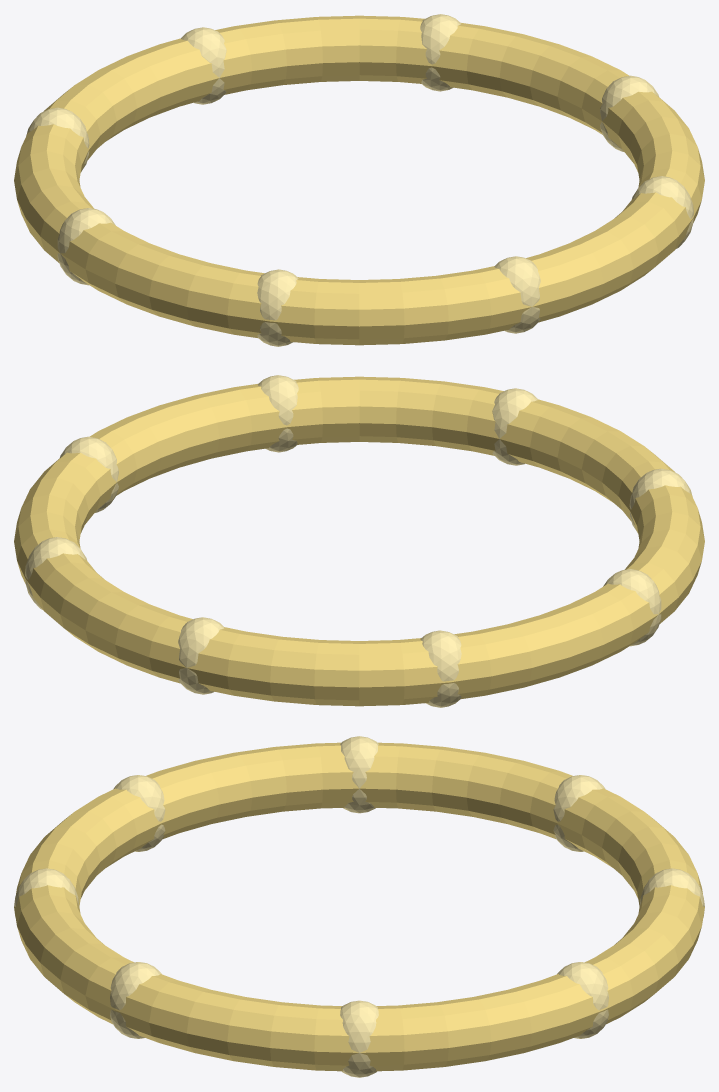
The model's file is star_halo.glb.
3 views of the same model, one above another, from view 1: azimuth 30°, elevation 25°; view 2: azimuth 150°, elevation 25°; view 3: azimuth 270°, elevation 25° (orthographic).
Visible parts, largest first — view 1: star_halo_0, star_halo_4, star_halo_3, star_halo_8, star_halo_7, star_halo_5, star_halo_1, star_halo_2, star_halo_6; view 2: star_halo_0, star_halo_6, star_halo_7, star_halo_2, star_halo_3, star_halo_5, star_halo_1, star_halo_8, star_halo_4; view 3: star_halo_0, star_halo_1, star_halo_5, star_halo_2, star_halo_8, star_halo_4, star_halo_6, star_halo_3, star_halo_7.
Boxes of the visible parts, x1,y1,x2,y2 form: star_halo_0: (14,15,704,345); star_halo_4: (257,269,298,346); star_halo_3: (494,256,540,333); star_halo_8: (420,14,461,91); star_halo_7: (181,27,226,104); star_halo_5: (57,208,115,285); star_halo_1: (600,75,658,151); star_halo_2: (632,176,693,248); star_halo_6: (26,107,89,171); star_halo_0: (14,376,704,706); star_halo_6: (420,630,461,707); star_halo_7: (178,617,224,694); star_halo_2: (257,375,298,452); star_halo_3: (492,388,537,465); star_halo_5: (603,569,661,646); star_halo_1: (60,436,118,512); star_halo_8: (25,537,86,609); star_halo_4: (629,468,692,532); star_halo_0: (14,742,704,1071); star_halo_1: (340,1000,378,1077); star_halo_5: (340,736,378,813); star_halo_2: (110,962,161,1038); star_halo_8: (557,962,608,1038); star_halo_4: (113,775,165,851); star_halo_6: (553,775,605,851); star_halo_3: (14,868,79,917); star_halo_7: (639,868,704,917).
Size of the model in its own units: 0.95 by 0.11 by 0.95.
